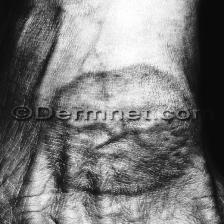Unclassified: (22, 122, 201, 188), (40, 63, 194, 109)
